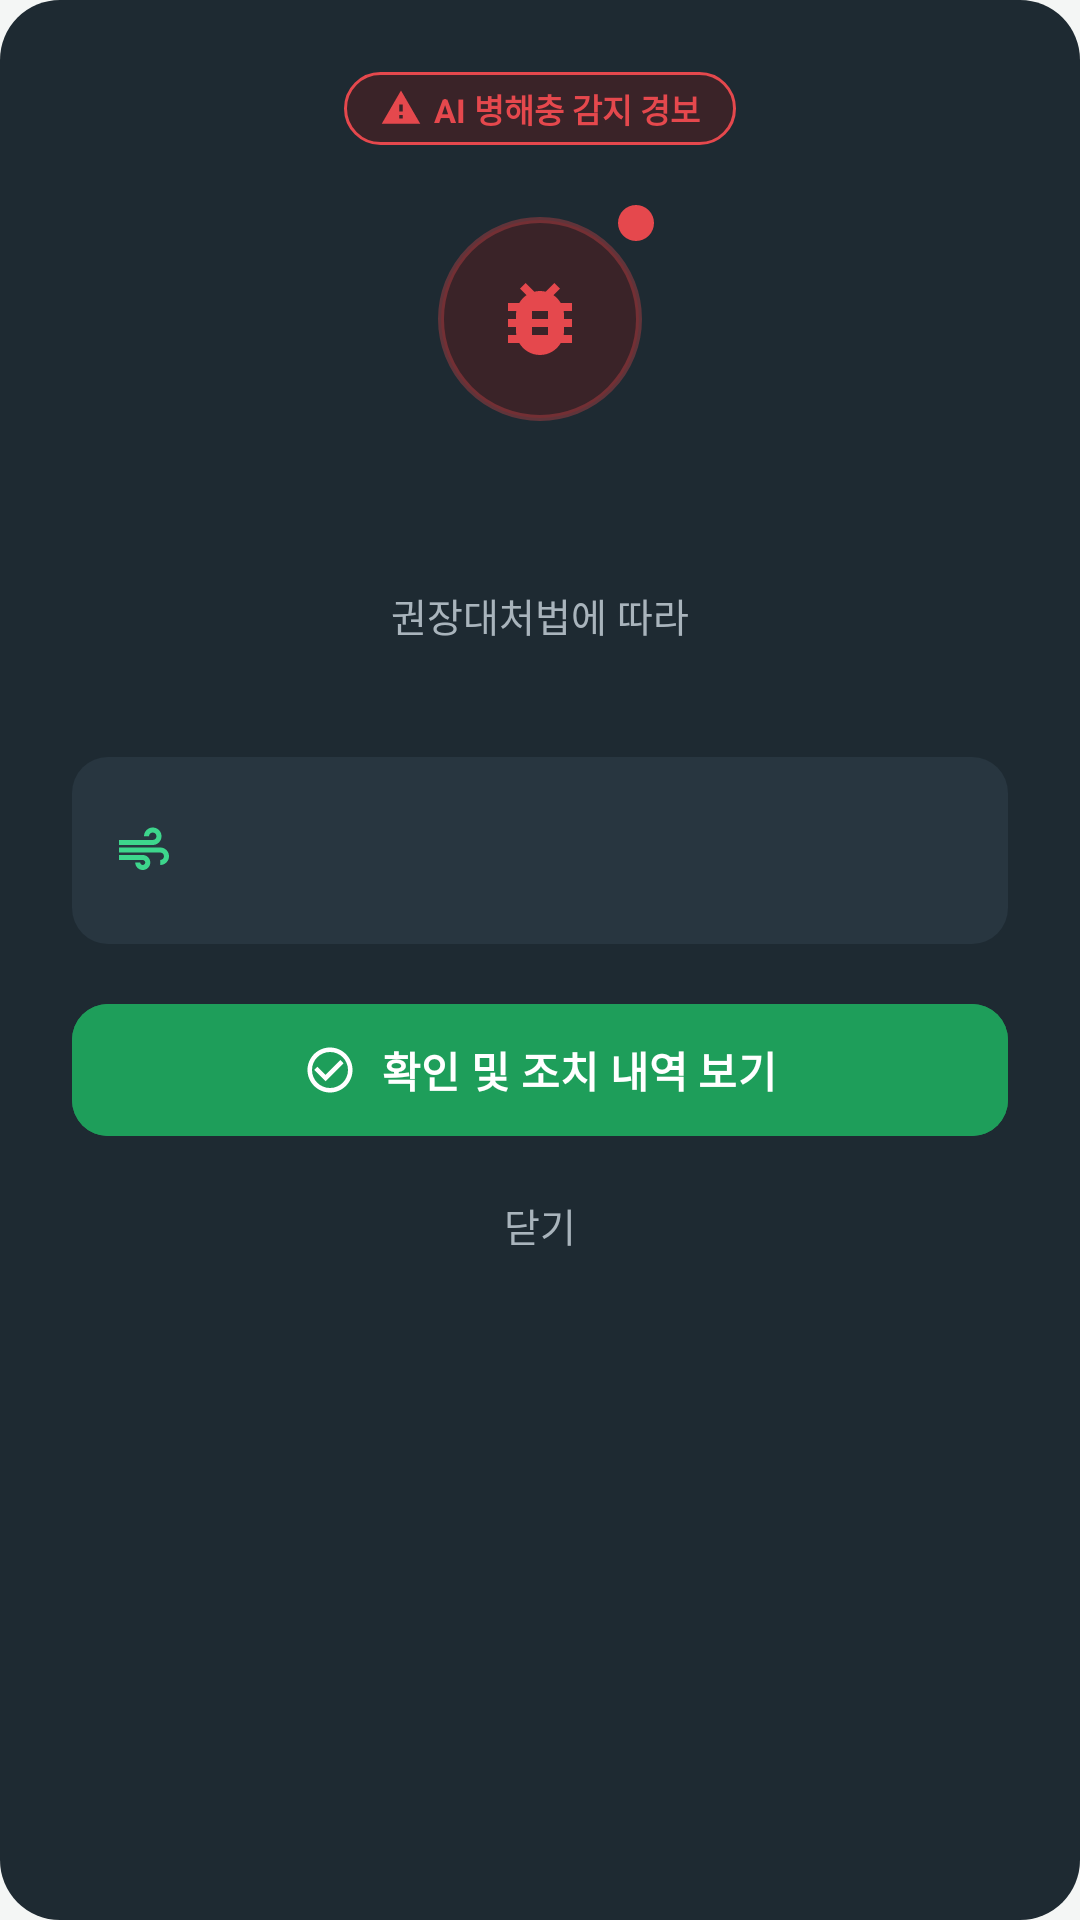

Screen size 1080x1920. Icon name, then its box in pixels as (x1, y1, x2, y2):
air: (119, 827, 169, 870)
bug: (508, 283, 572, 355)
